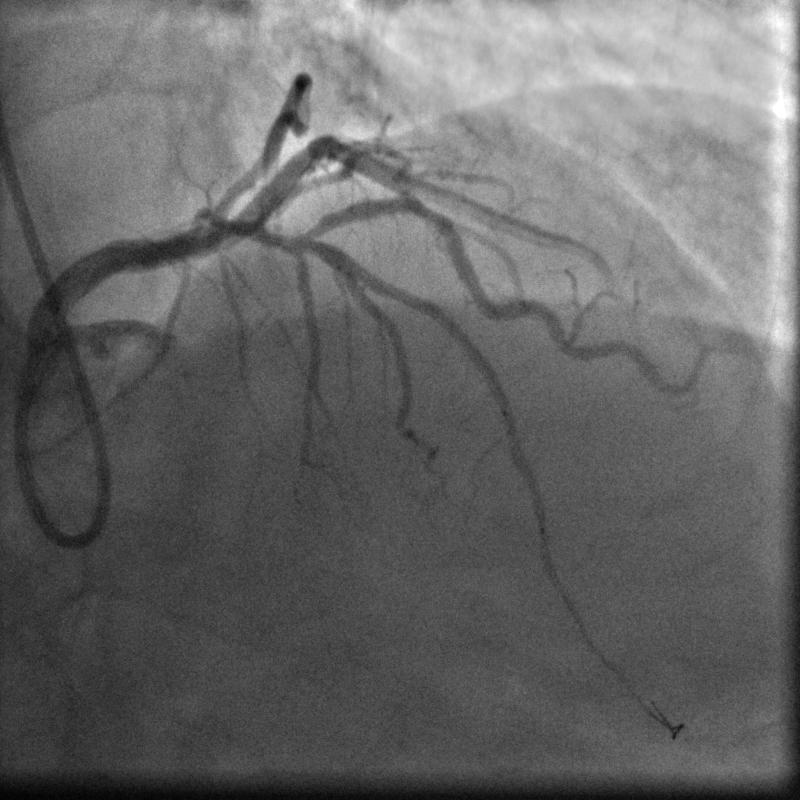Stenosis: (405, 190, 444, 233)
